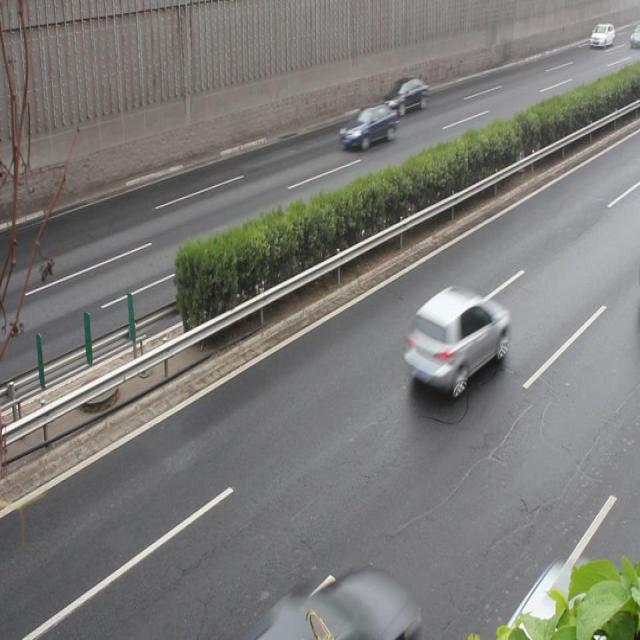car: (402, 285, 508, 395), (338, 103, 396, 149), (379, 76, 426, 117)
